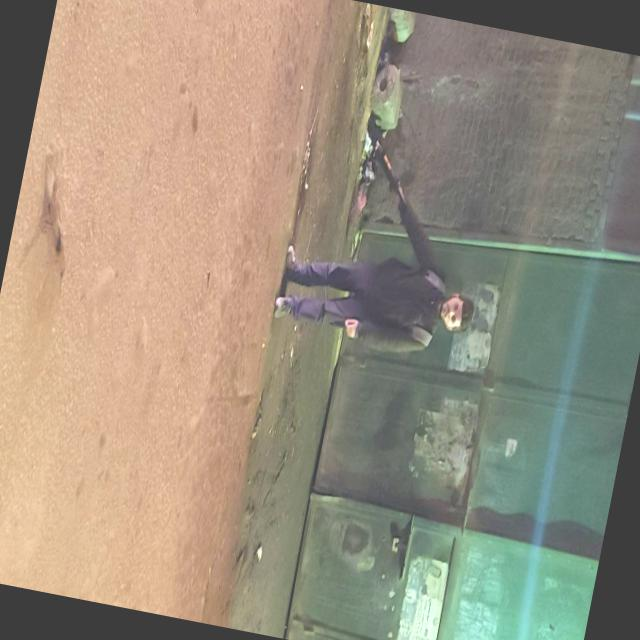long weapon: (352, 116, 428, 238)
